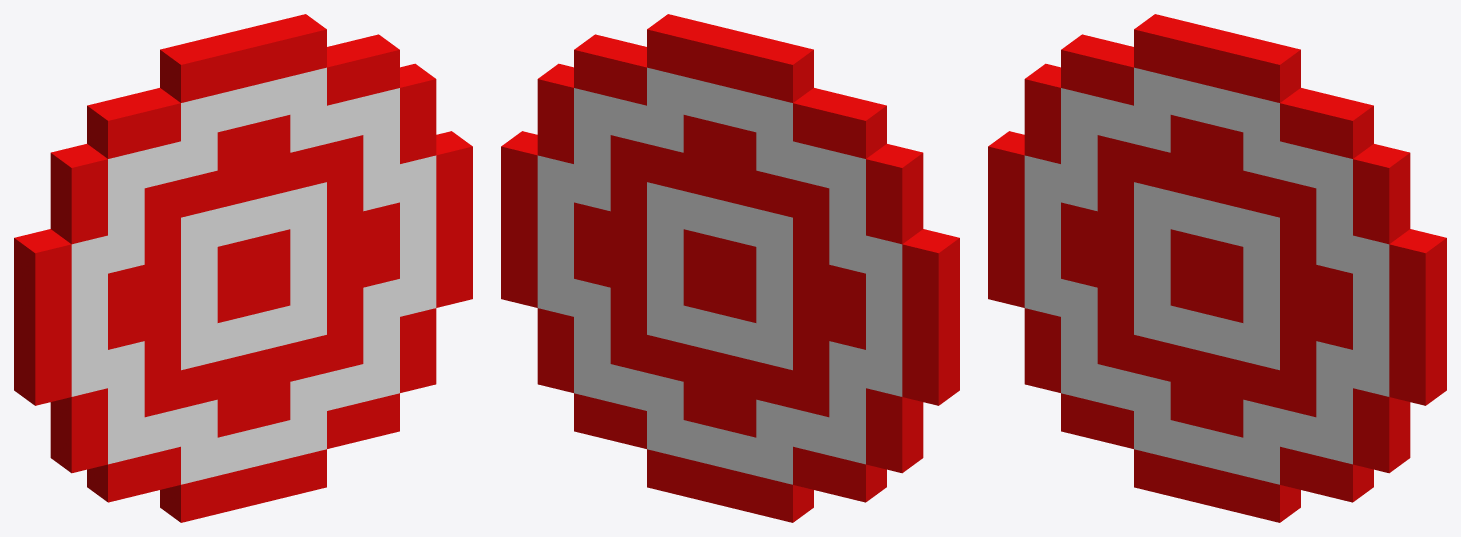
File: target.dae
3 renders of one model, left to right at view 1: azimuth 30°, elevation 25°; view 2: azimuth 150°, elevation 25°; view 3: azimuth 330°, elevation 25°, orthographic.
Parts seen in each view (by area): view 1: target.layer; view 2: target.layer; view 3: target.layer.
Boxes of the visible parts, x1,y1,x2,y2 form: target.layer: (14,14,472,522); target.layer: (501,14,959,522); target.layer: (988,14,1446,522).
Bounding box in the file's own units: 1.2 × 0.1 × 1.2.
1 material, 1 textured.
